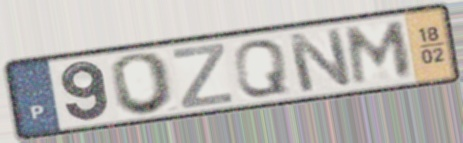9: (57, 58, 113, 125)
M: (345, 19, 415, 87)
N: (284, 26, 356, 95)
O: (109, 50, 179, 117)
Q: (231, 37, 291, 99)
Z: (170, 40, 235, 111)
